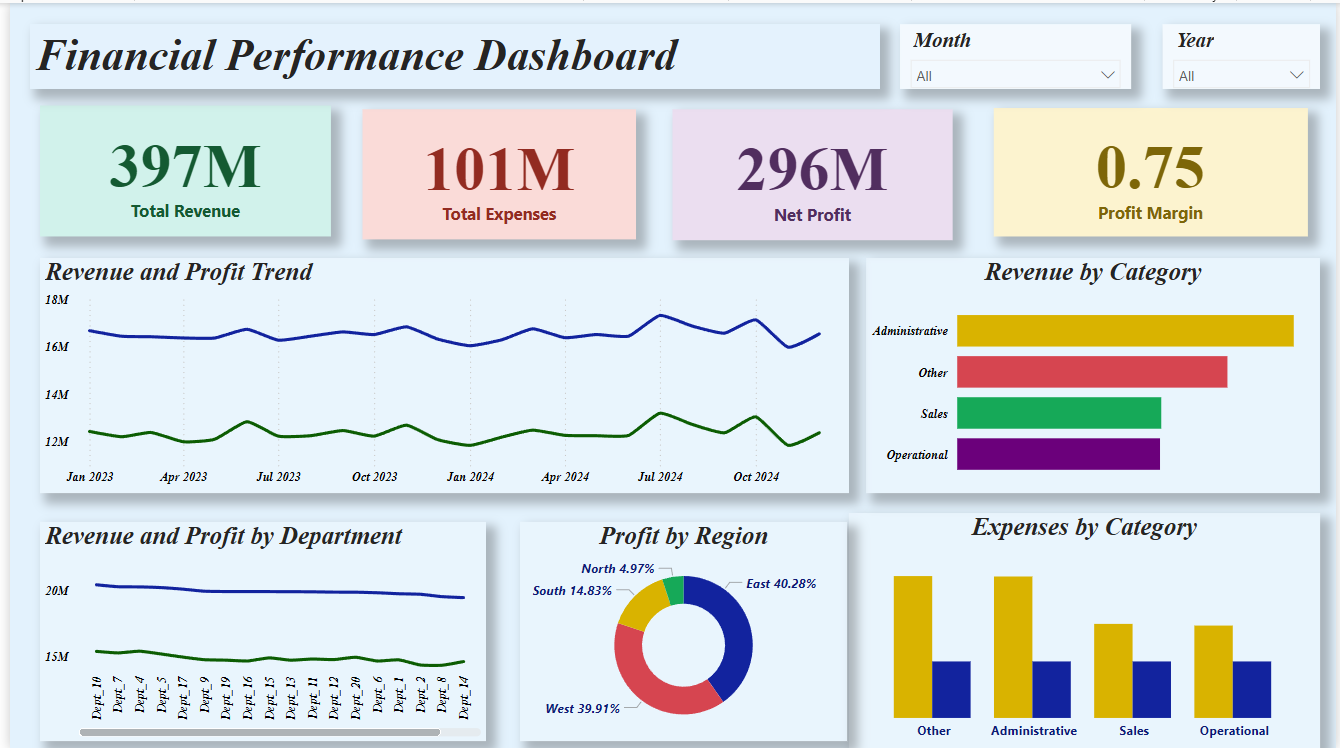

What the dashboard file says about the page in this screenshot:
{"tool":"powerbi","page":{"name":"Page 1","canvas":[1280,720],"ordinal":0},"visuals":[{"type":"card","fields":{"Values":["Sum(Fact_Financials.Revenue)"]},"box":[29,98.9,281.1,126.7],"z":0},{"type":"card","fields":{"Values":["Sum(Fact_Financials.Operating_Expenses)"]},"box":[340.2,102.5,264.2,125.5],"z":1000},{"type":"card","fields":{"Values":["Sum(Fact_Financials.Net_Profit)"]},"box":[639.4,102.5,270.2,126.7],"z":2000},{"type":"card","fields":{"Values":["Fact_Financials.Profit Margin"]},"box":[949.5,101.3,302.8,124.3],"z":3000},{"type":"lineChart","title":" Revenue and Profit Trend ","fields":{"Y":["Sum(Fact_Financials.Revenue)","Sum(Fact_Financials.Net_Profit)"],"Category":["Dim_Date.Date.Variation.Date Hierarchy.Year","Dim_Date.Date.Variation.Date Hierarchy.Quarter","Dim_Date.Date.Variation.Date Hierarchy.Month","Dim_Date.Date.Variation.Date Hierarchy.Day"]},"box":[29,246.1,780.6,226.8],"z":4000},{"type":"lineChart","title":"Revenue and Profit by Department","fields":{"Category":["Dim_Department.Department_Name"],"Y":["Sum(Fact_Financials.Revenue)","Sum(Fact_Financials.Net_Profit)"]},"box":[29,500.7,430.7,212.3],"z":5000},{"type":"clusteredColumnChart","title":"Expenses by Category","fields":{"Category":["Dim_Account.Category"],"Y":["Sum(Fact_Financials.Operating_Expenses)","Sum(Budget_Forecast.Budget_Expenses)"]},"box":[809.5,492.2,454.8,228],"z":6000},{"type":"clusteredBarChart","title":" Revenue by Category","fields":{"Category":["Dim_Account.Category"],"Y":["Sum(Fact_Financials.Revenue)"]},"box":[826.4,246.1,437.9,226.8],"z":7000},{"type":"donutChart","title":"Profit by Region","fields":{"Category":["Dim_Department.Region"],"Y":["Sum(Fact_Financials.Net_Profit)"]},"box":[492.2,500.7,316.1,212.3],"z":8000},{"type":"textbox","box":[19.3,20.5,820.4,62.7],"z":9000},{"type":"slicer","fields":{"Values":["Dim_Date.MonthName"]},"box":[859,20.5,223.2,62.7],"z":10000},{"type":"slicer","fields":{"Values":["Dim_Date.Year"]},"box":[1112.3,20.5,152,62.7],"z":10001}]}

Visuals, with their boxes in screenshot pixels (x1, y1, x2, y2), scaled from the page's 1280x720 canvas onto the 1340x748 screenshot:
card - Sum(Fact_Financials.Revenue): (left=30, top=103, right=325, bottom=234)
card - Sum(Fact_Financials.Operating_Expenses): (left=356, top=106, right=633, bottom=237)
card - Sum(Fact_Financials.Net_Profit): (left=669, top=106, right=952, bottom=238)
card - Fact_Financials.Profit Margin: (left=994, top=105, right=1311, bottom=234)
" Revenue and Profit Trend " lineChart: (left=30, top=256, right=848, bottom=491)
"Revenue and Profit by Department" lineChart: (left=30, top=520, right=481, bottom=741)
"Expenses by Category" clusteredColumnChart: (left=847, top=511, right=1324, bottom=747)
" Revenue by Category" clusteredBarChart: (left=865, top=256, right=1324, bottom=491)
"Profit by Region" donutChart: (left=515, top=520, right=846, bottom=741)
textbox: (left=20, top=21, right=879, bottom=86)
slicer - Dim_Date.MonthName: (left=899, top=21, right=1133, bottom=86)
slicer - Dim_Date.Year: (left=1164, top=21, right=1324, bottom=86)
